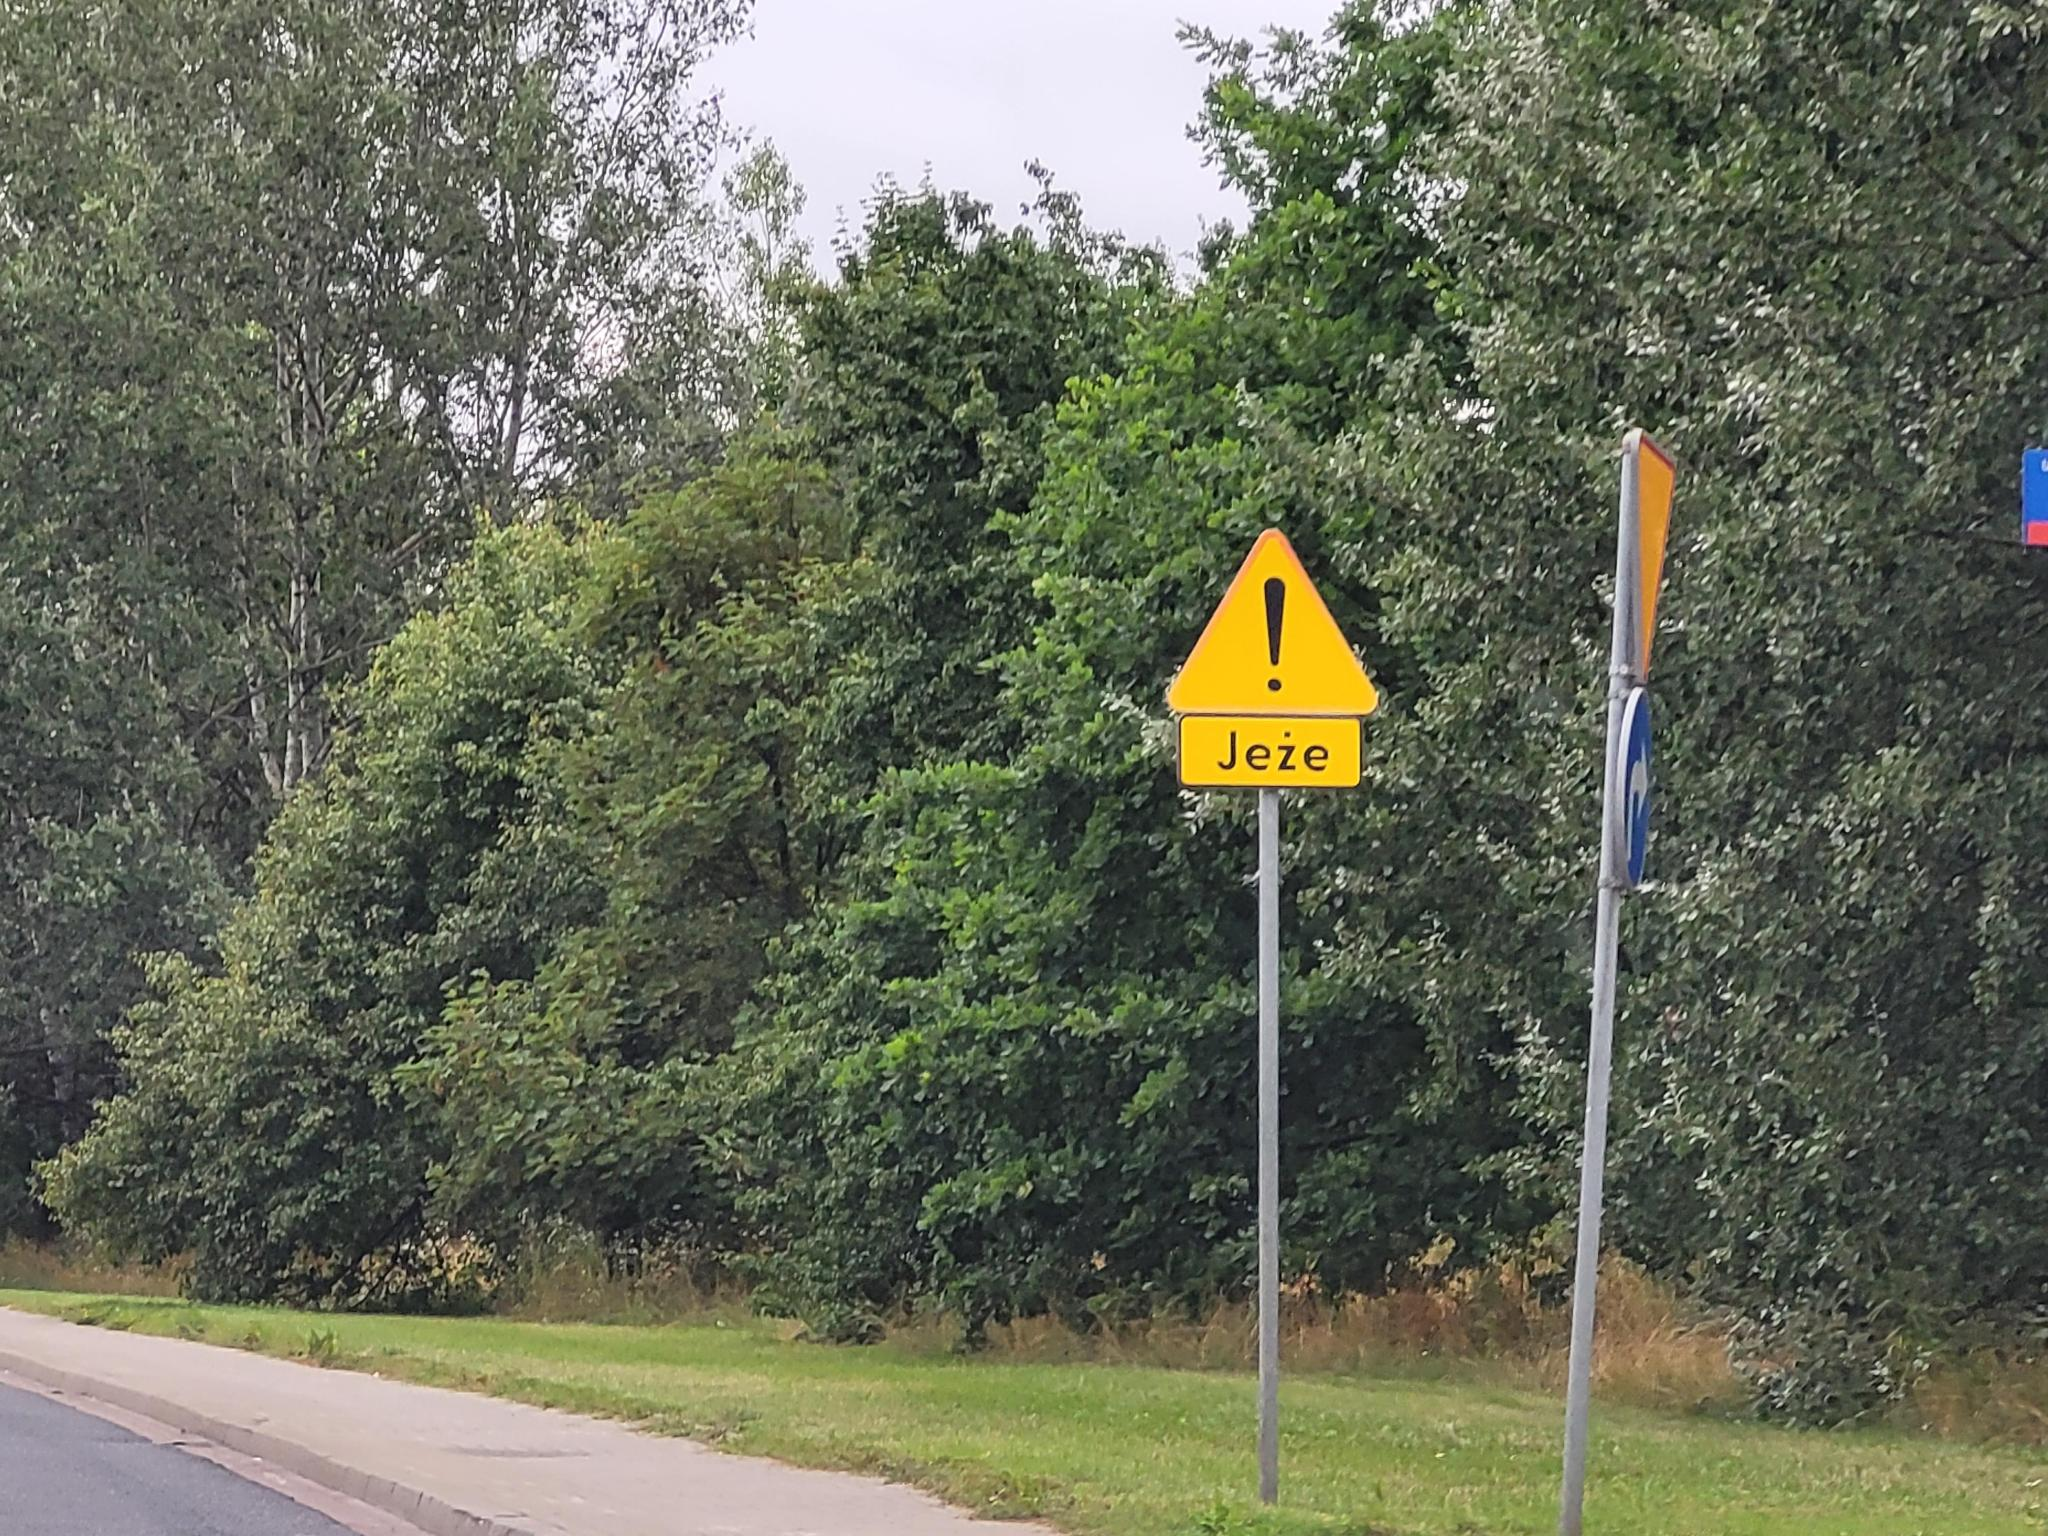mandatory: (1619, 686, 1653, 894)
other: (1180, 715, 1361, 786)
warning: (1166, 524, 1382, 715), (1627, 428, 1677, 682)
